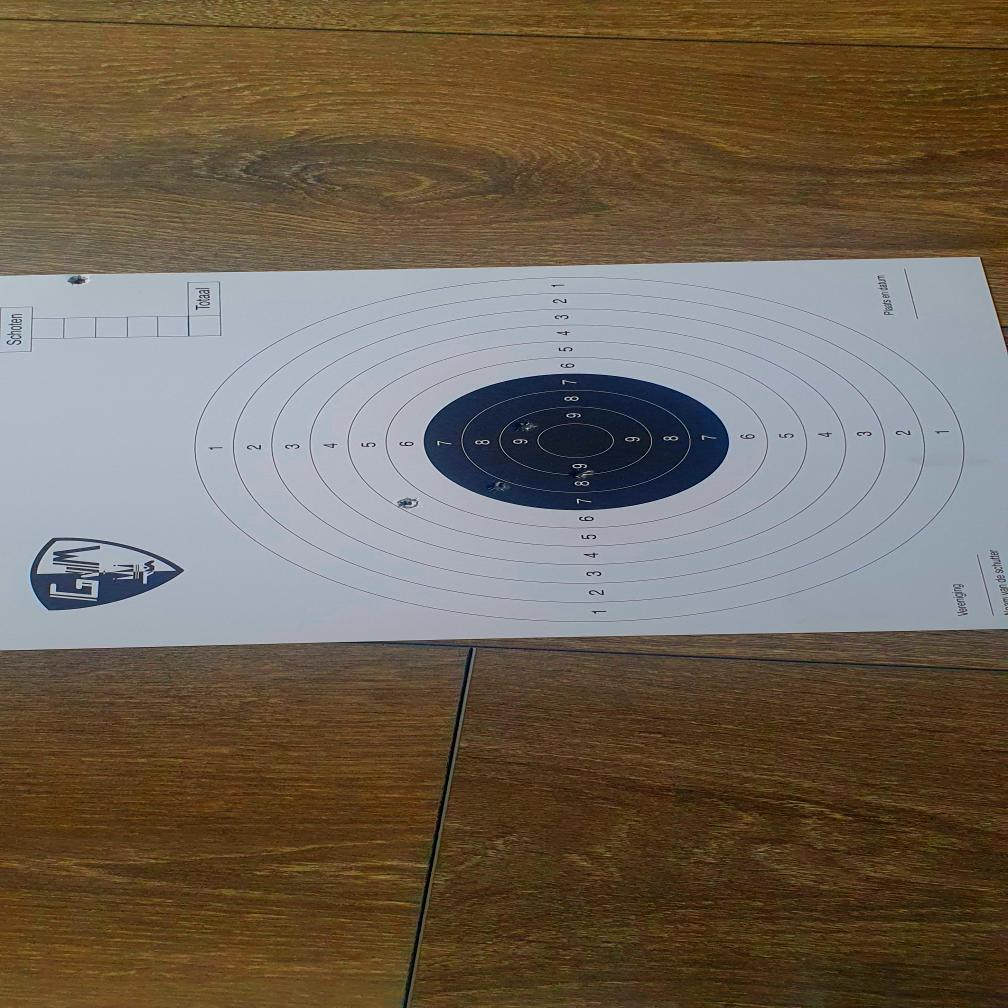0: (66, 275, 91, 286)
5: (392, 497, 424, 512)
7: (484, 480, 512, 493)
9: (565, 468, 596, 480), (511, 420, 539, 433)
Target: (190, 276, 970, 623)
black_contour: (422, 373, 730, 510)
